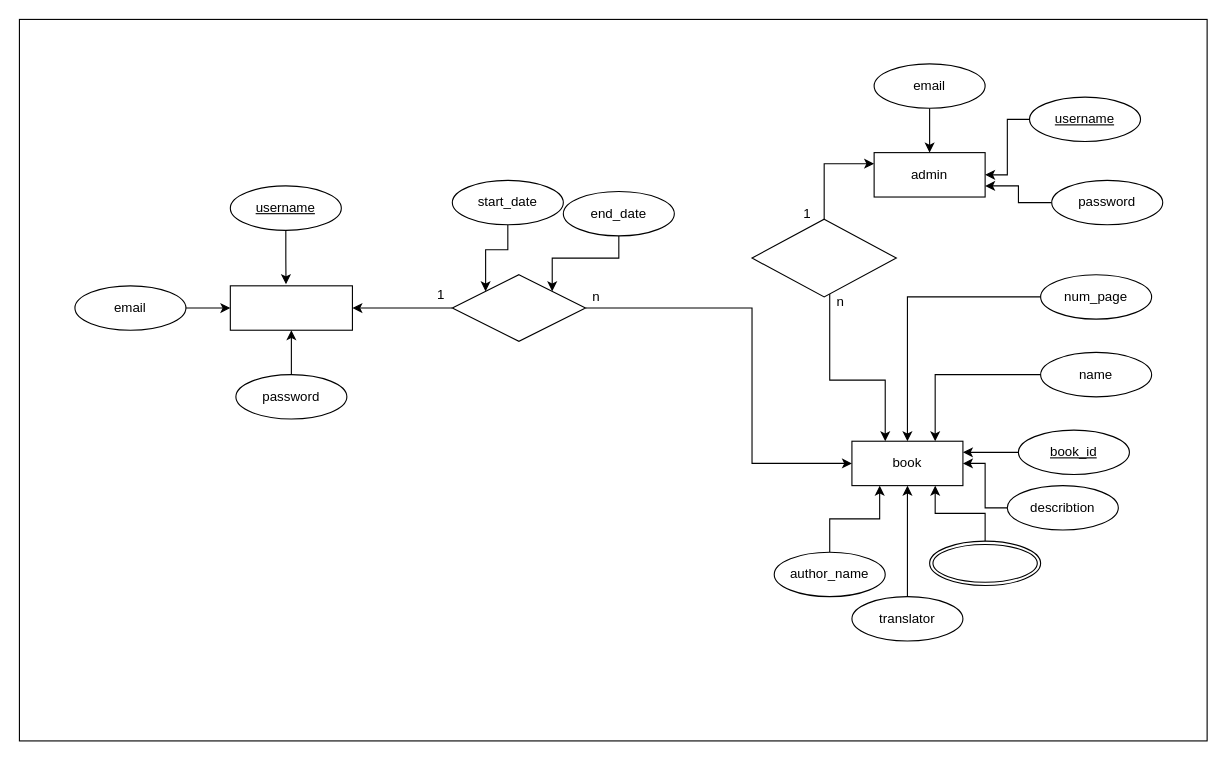
The diagram is 1227 pixels wide and 760 high, and some of its shapes have lost their labels. Here are the shapes that lost their labels. From the top down, the centre of each, then its label:
At (x=823, y=257): "Editing or add book".
At (x=290, y=307): "user".
At (x=518, y=307): "Borrow".
At (x=985, y=563): "category".
